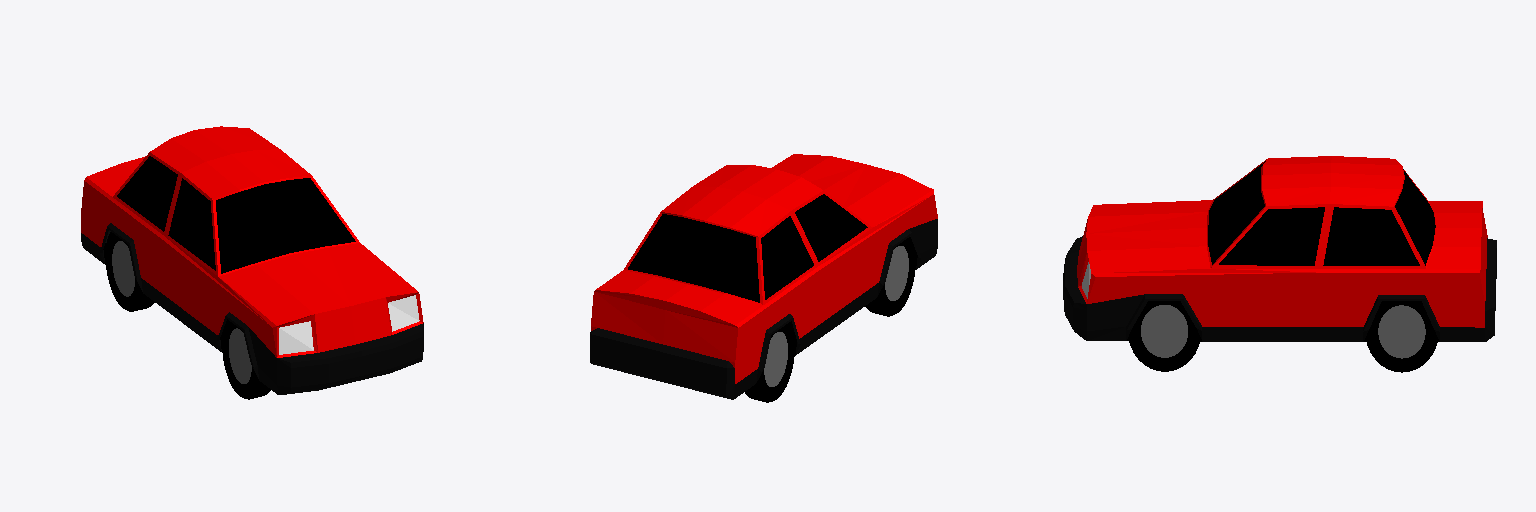
Rendered from car.obj.
The picture shows the model from 3 angles: view 1: azimuth 30°, elevation 25°; view 2: azimuth 150°, elevation 25°; view 3: azimuth 270°, elevation 25°; orthographic projection.
Visible parts, largest first — view 1: untitled; view 2: untitled; view 3: untitled.
Part boxes in pixels (left/top/right/bottom): untitled: left=81, top=126, right=423, bottom=399; untitled: left=590, top=154, right=937, bottom=402; untitled: left=1063, top=156, right=1496, bottom=372.
Size of the model in its own units: 2 by 2.04 by 4.83.